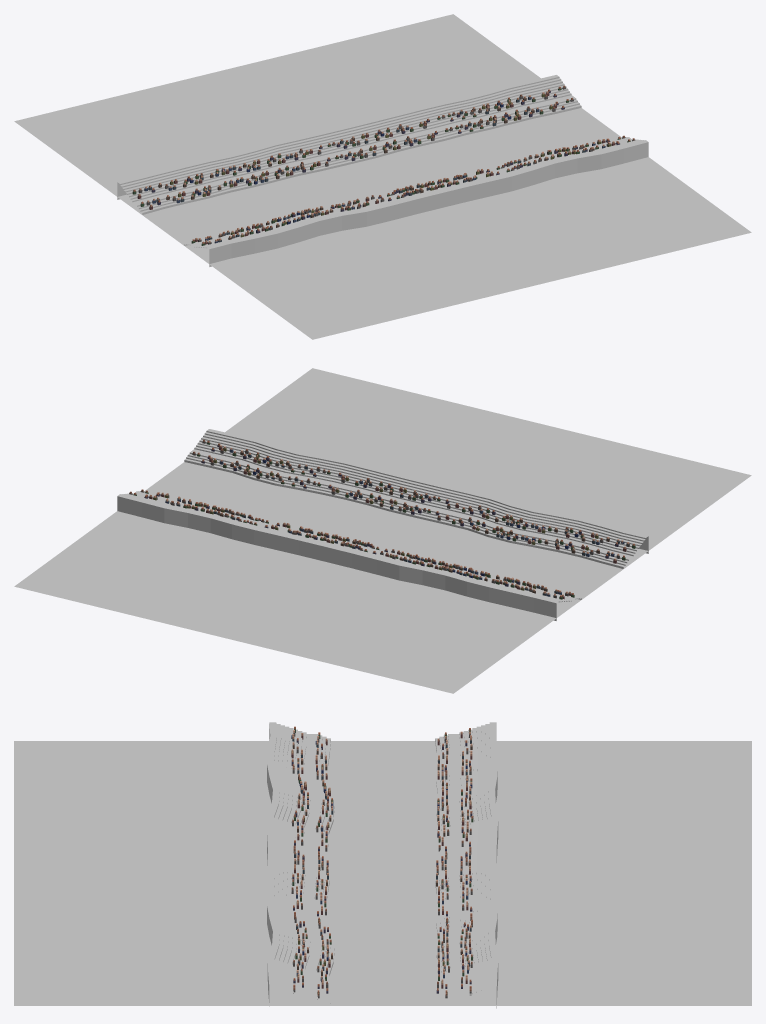
Rendered from StraightPatch.FBX.
3 renders of one model, top to bottom at view 1: azimuth 30°, elevation 25°; view 2: azimuth 150°, elevation 25°; view 3: azimuth 270°, elevation 25°, orthographic. The views are drawn at different scales.
Parts seen in each view (by area): view 1: Plane-Simple_02, Stage-Straight, RoadSimple-02, Audience-Straight; view 2: Plane-Simple_02, Stage-Straight, RoadSimple-02, Audience-Straight; view 3: Plane-Simple_02, Stage-Straight, RoadSimple-02, Audience-Straight.
Part boxes in pixels (left/top/right/bottom): Plane-Simple_02: left=14, top=14, right=751, bottom=339; Stage-Straight: left=117, top=75, right=648, bottom=266; RoadSimple-02: left=140, top=108, right=621, bottom=247; Audience-Straight: left=132, top=85, right=635, bottom=245; Plane-Simple_02: left=14, top=368, right=751, bottom=693; Stage-Straight: left=117, top=429, right=648, bottom=620; RoadSimple-02: left=144, top=462, right=625, bottom=601; Audience-Straight: left=129, top=439, right=635, bottom=599; Plane-Simple_02: left=14, top=741, right=751, bottom=1005; Stage-Straight: left=267, top=722, right=498, bottom=1008; RoadSimple-02: left=325, top=741, right=440, bottom=1005; Audience-Straight: left=291, top=726, right=473, bottom=999.
Bounding box in the file's own units: 258 × 10.07 × 304.
